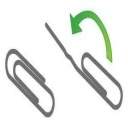Metal: (32, 8, 128, 114), (0, 41, 60, 123)
